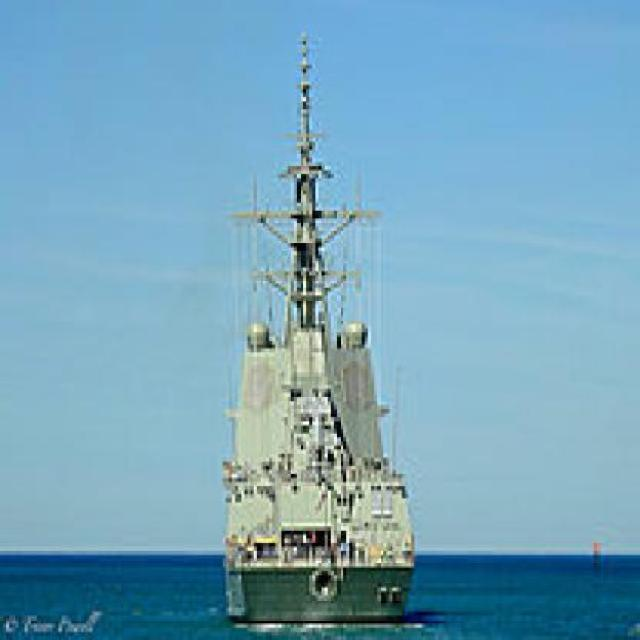warship2: (207, 1, 429, 626)
